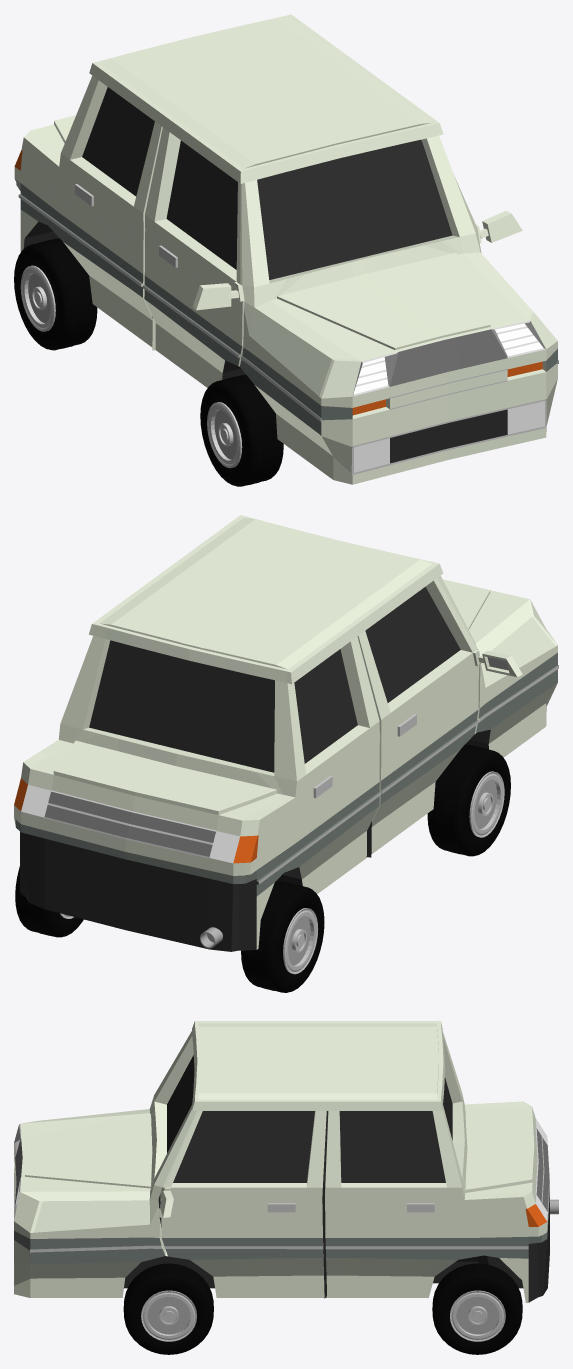
File: CR-CAR-19.fbx
3 views of the same model, one above another, from view 1: azimuth 30°, elevation 25°; view 2: azimuth 150°, elevation 25°; view 3: azimuth 270°, elevation 25° (orthographic). The views are drawn at different scales.
Visible parts, largest first — view 1: BODY, WHEEL.004, WHEEL.001; view 2: BODY, WHEEL.001, WHEEL.004, WHEEL.002; view 3: BODY, WHEEL.002, WHEEL.003.
Part boxes in pixels (<box>): BODY: <box>14,14,558,484</box>; WHEEL.004: <box>14,238,97,350</box>; WHEEL.001: <box>200,375,283,486</box>; BODY: <box>14,515,558,951</box>; WHEEL.001: <box>427,744,510,856</box>; WHEEL.004: <box>241,881,324,992</box>; WHEEL.002: <box>15,866,83,937</box>; BODY: <box>14,1021,549,1302</box>; WHEEL.002: <box>432,1263,522,1354</box>; WHEEL.003: <box>123,1263,213,1354</box>.
Bounding box in the file's own units: 135 × 117 × 236.
